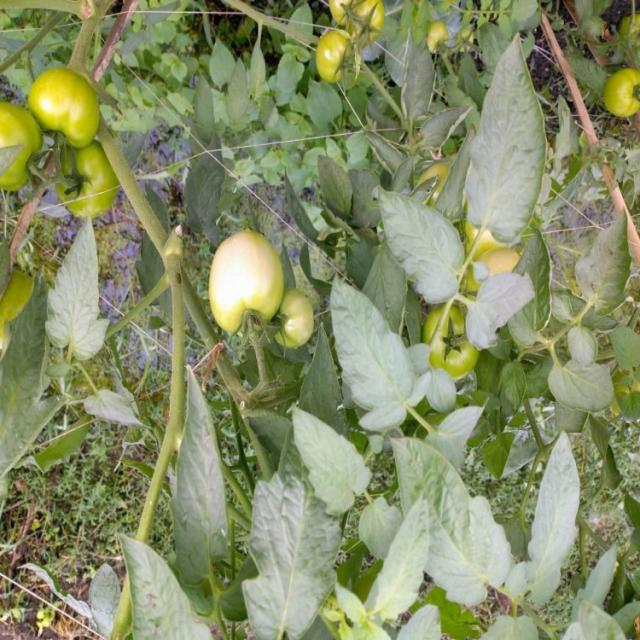tomato: (13, 53, 116, 159), (194, 231, 291, 334), (47, 150, 137, 233), (419, 300, 494, 383), (262, 290, 330, 358), (1, 93, 40, 192), (302, 31, 366, 90), (462, 225, 518, 282), (601, 66, 640, 130), (339, 1, 392, 44)
